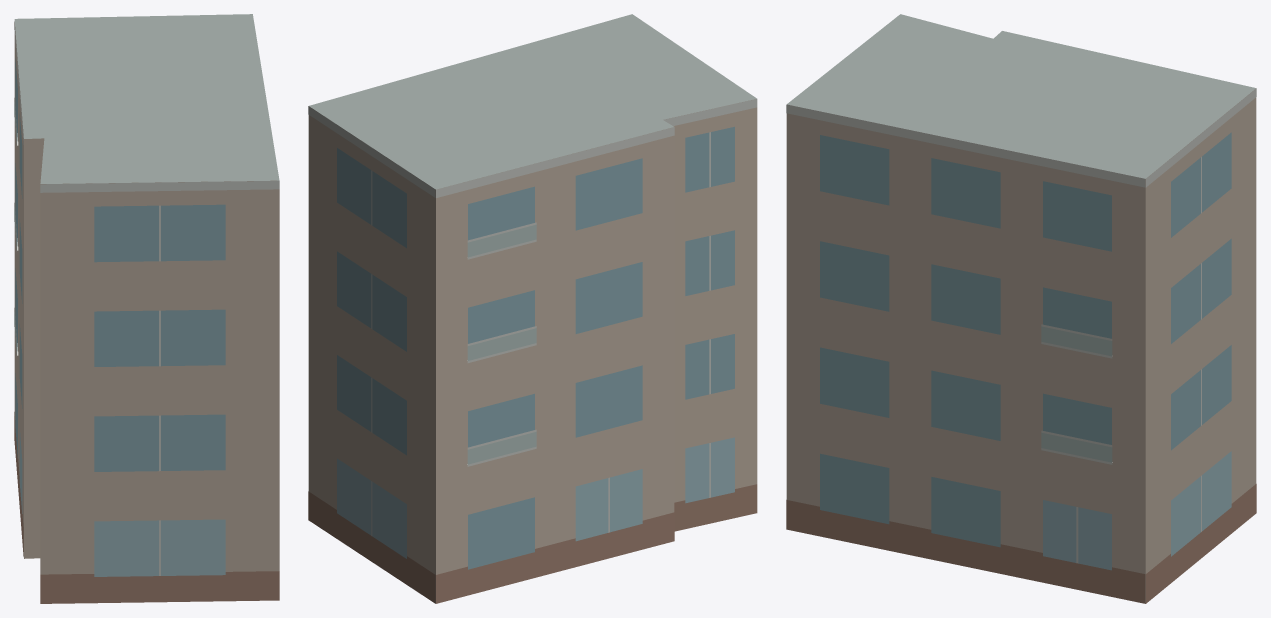
The model's file is survey-upis-32723710.glb.
3 views of the same model, side by side, from view 1: azimuth 30°, elevation 25°; view 2: azimuth 150°, elevation 25°; view 3: azimuth 270°, elevation 25° (orthographic). The views are drawn at different scales.
Parts seen in each view (by area): view 1: survey-upis-32723710.tmp; view 2: survey-upis-32723710.tmp; view 3: survey-upis-32723710.tmp.
Part boxes in pixels (box(x1,y1,x2,y2)): survey-upis-32723710.tmp: box(14, 14, 279, 603); survey-upis-32723710.tmp: box(308, 14, 757, 603); survey-upis-32723710.tmp: box(786, 14, 1256, 603).
Bounding box in the file's own units: 9.74 × 11.7 × 11.73.
